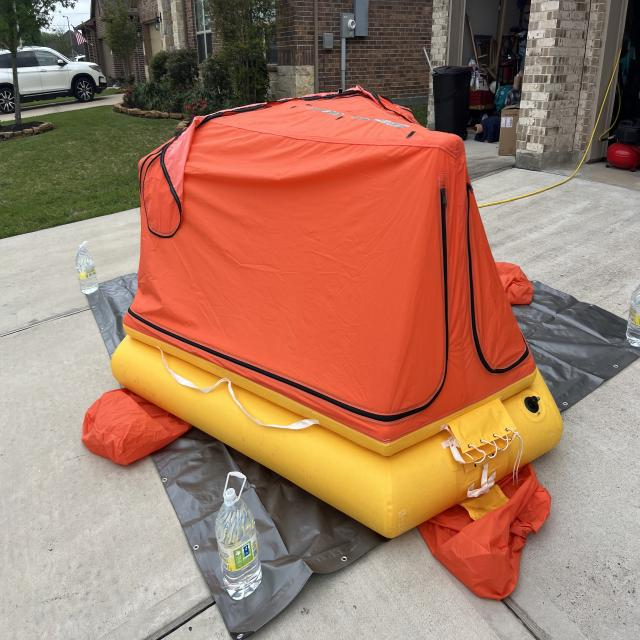Multi-person_life_raft: (80, 83, 564, 602)
